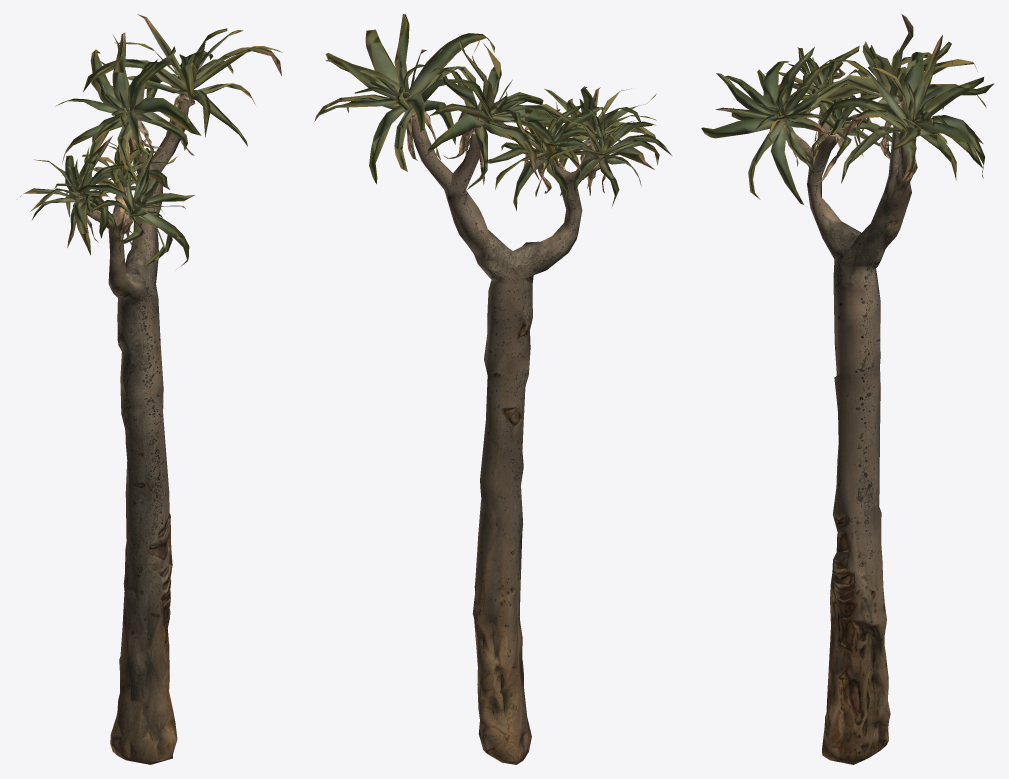
The model's file is tree_quiver_a.glb.
3 views of the same model, side by side, from view 1: azimuth 30°, elevation 25°; view 2: azimuth 150°, elevation 25°; view 3: azimuth 270°, elevation 25° (orthographic). The views are drawn at different scales.
Size of the model in its own units: 1.18 by 2.71 by 0.9673.
Materials: 2 (2 with a texture image).
